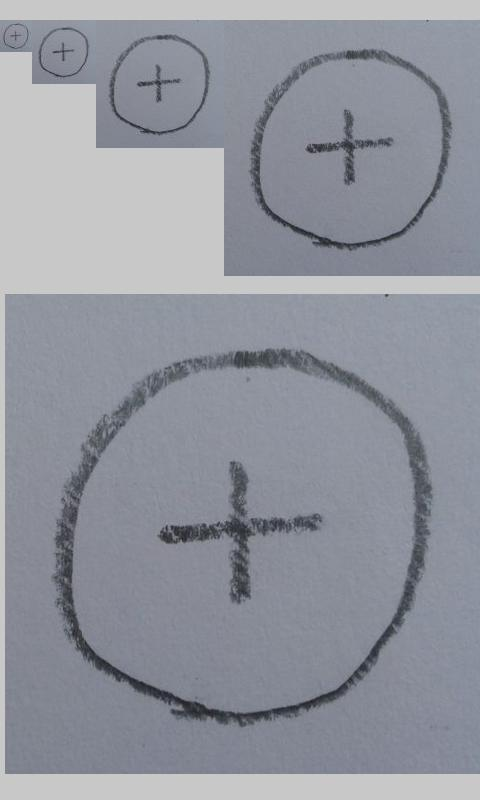button: (52, 348, 434, 724), (249, 47, 452, 250), (108, 34, 210, 135), (38, 27, 89, 78), (3, 23, 29, 49)
